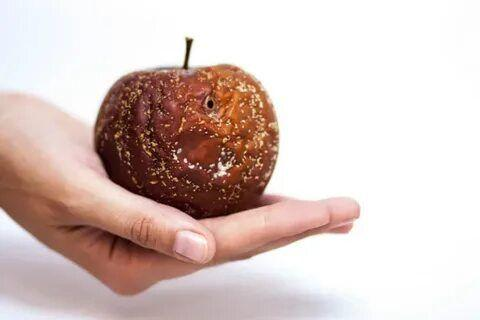Apple: (94, 66, 280, 216)
